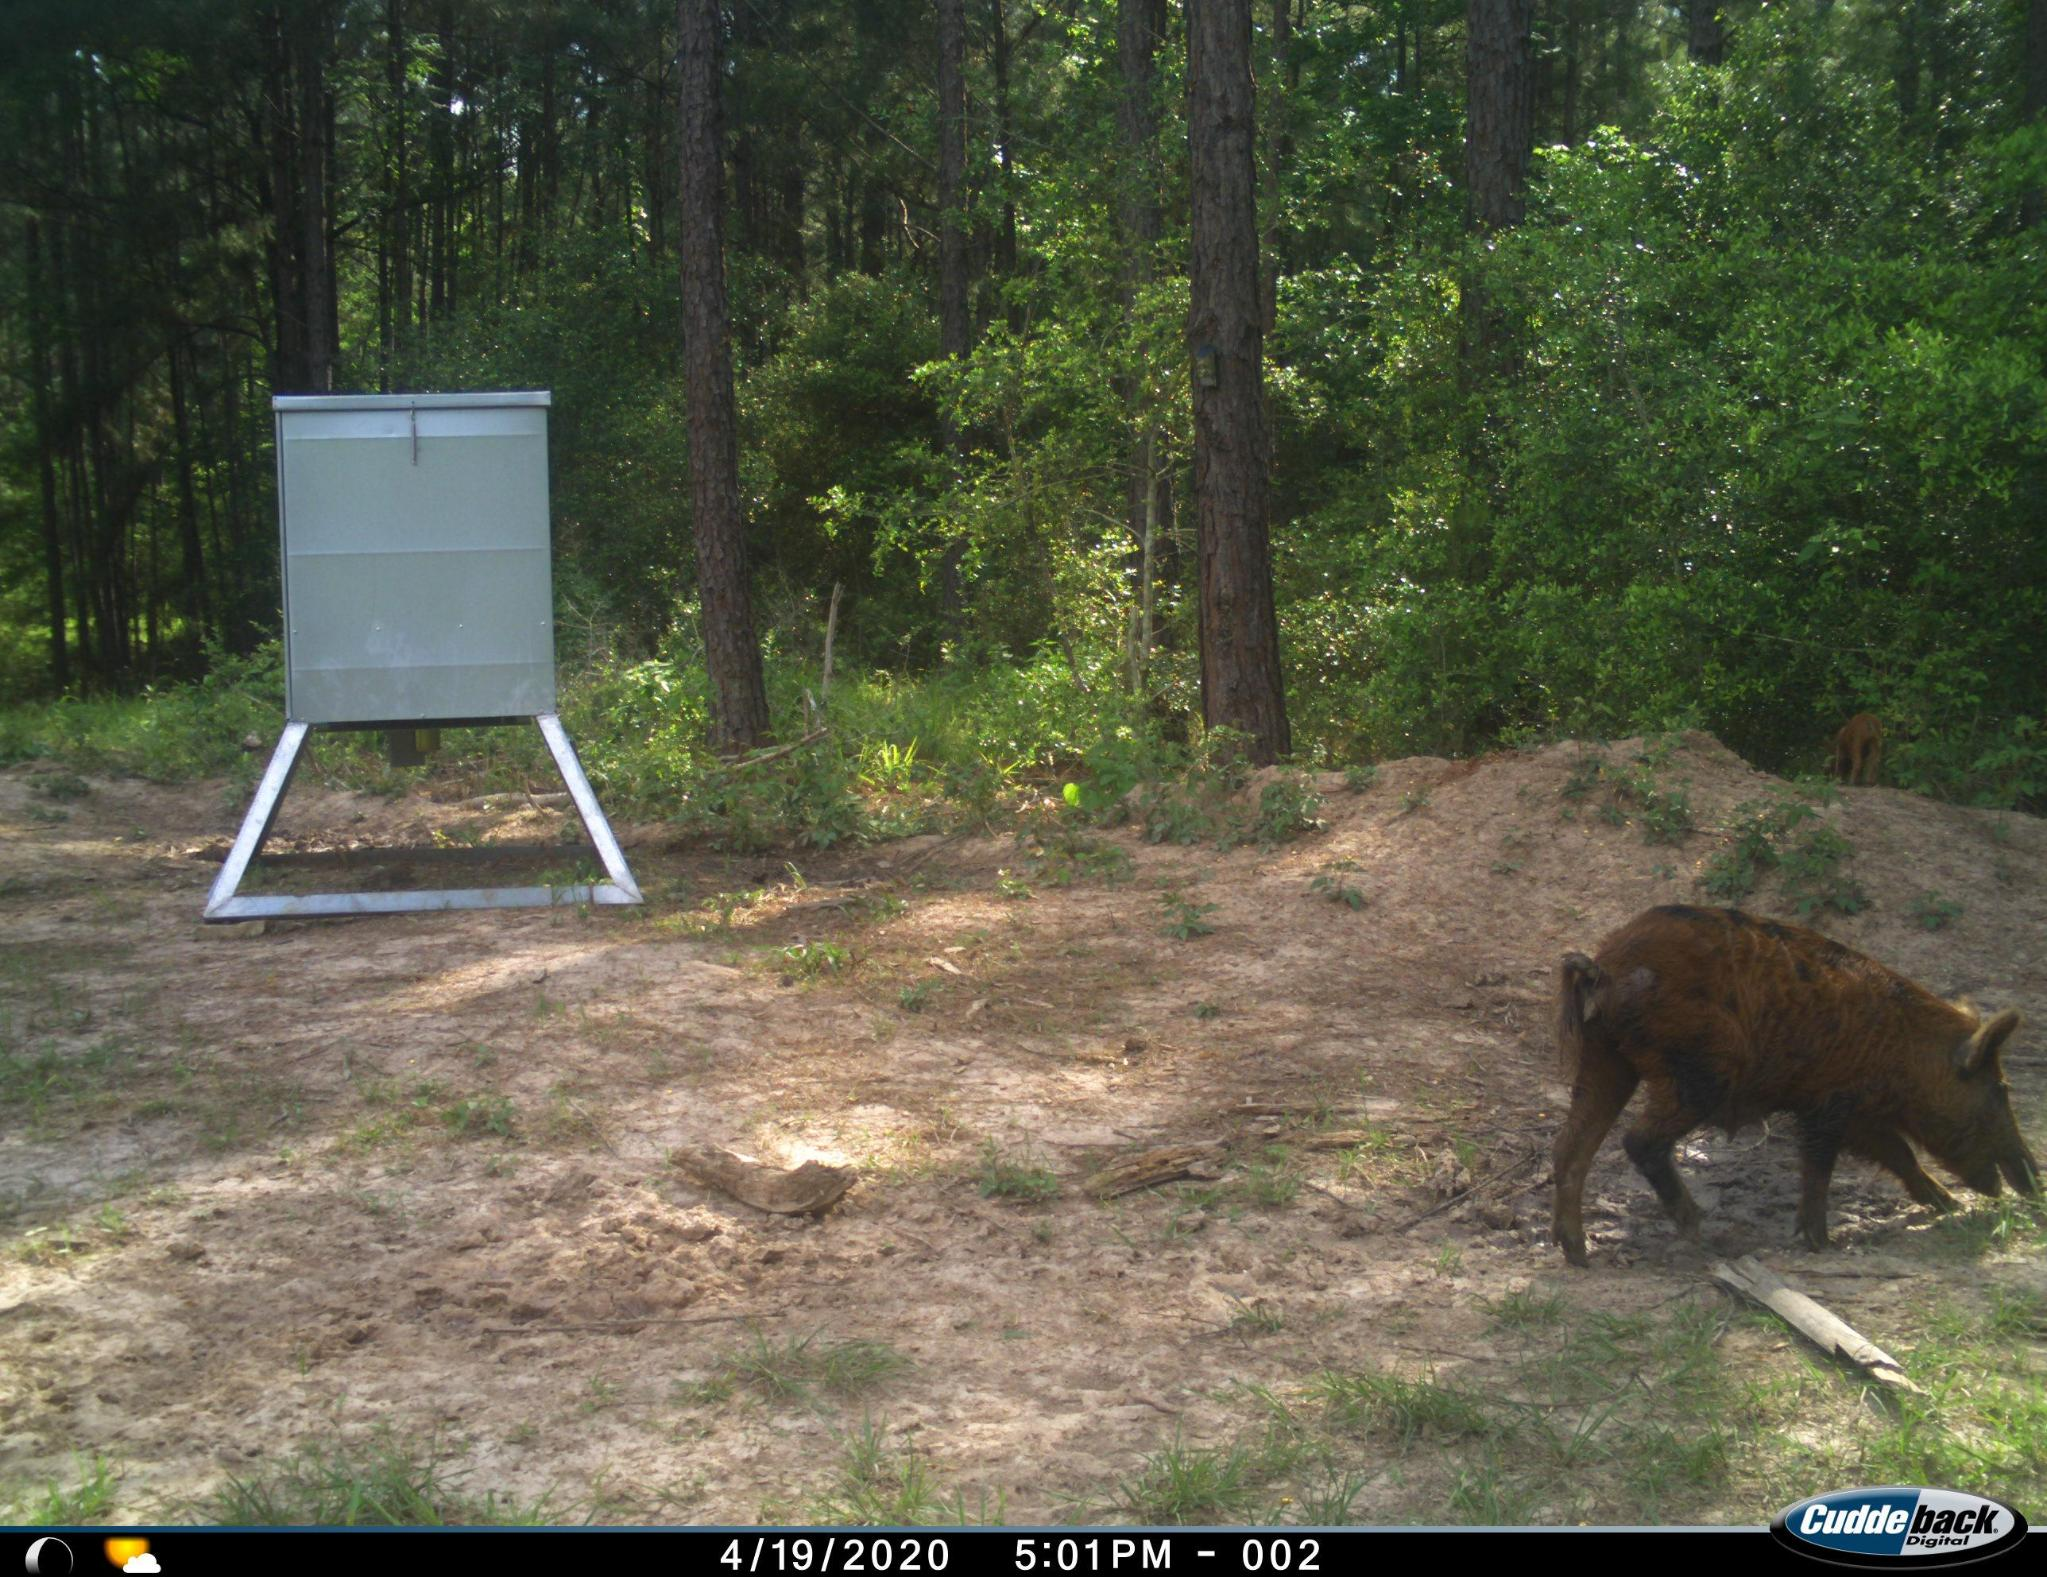Hog: (1525, 891, 2045, 1294)
